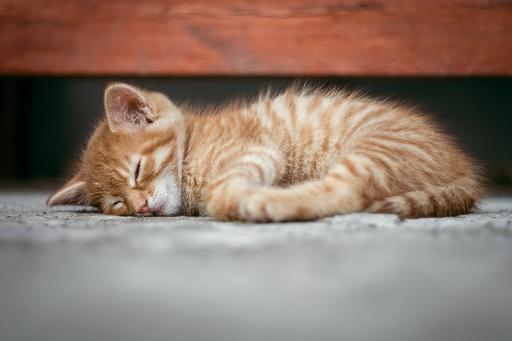cat_sleeping: (47, 83, 483, 222)
